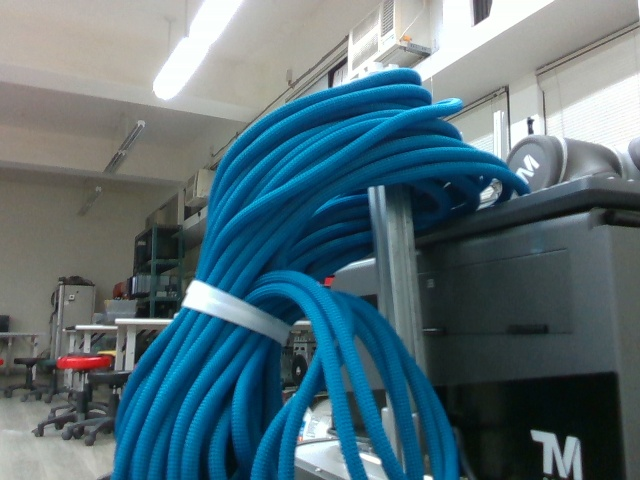rope: (112, 69, 463, 480)
